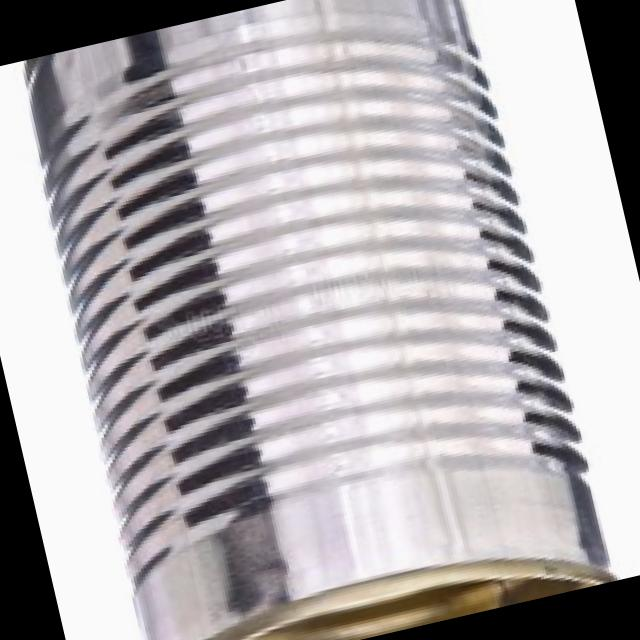kim_loai: (20, 0, 622, 640)
